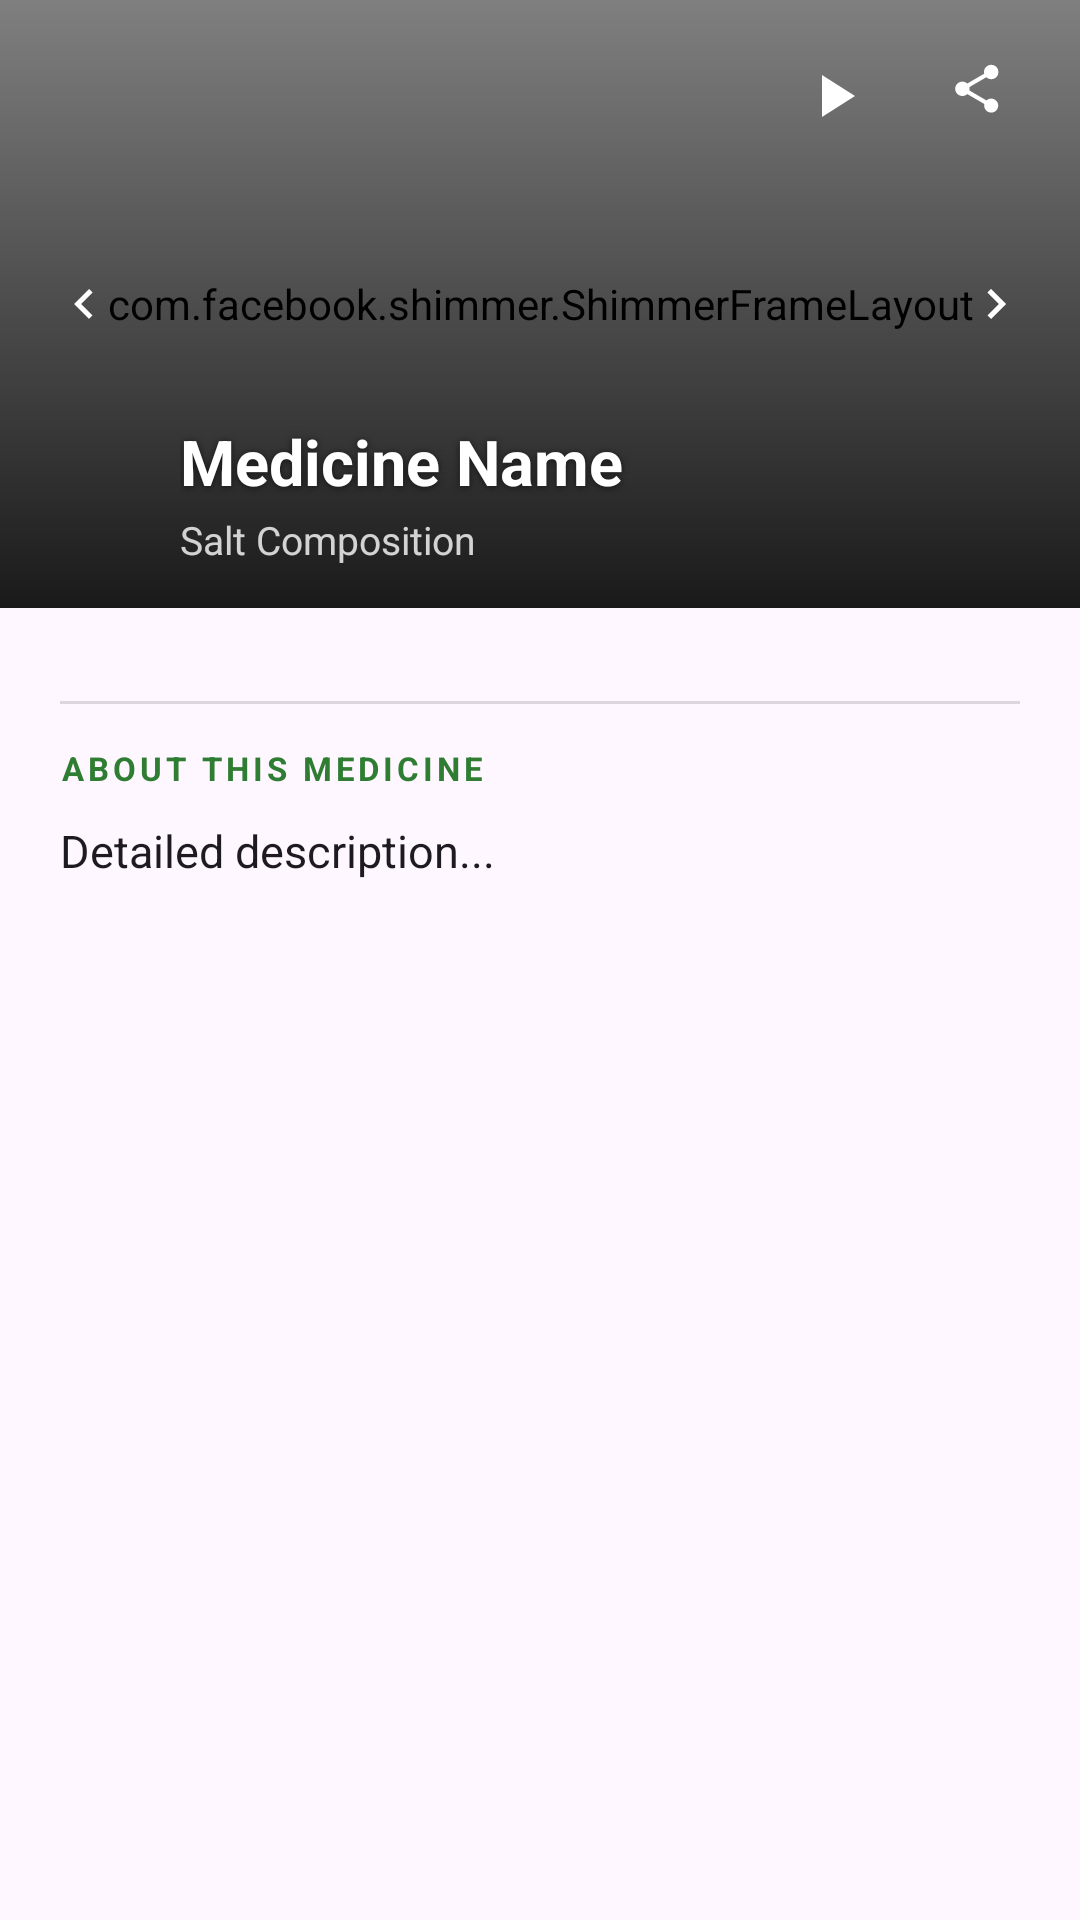

Icons on this 1080*1920 Android screen, each with the point to tap as (x,y):
Play video: (838,96)
